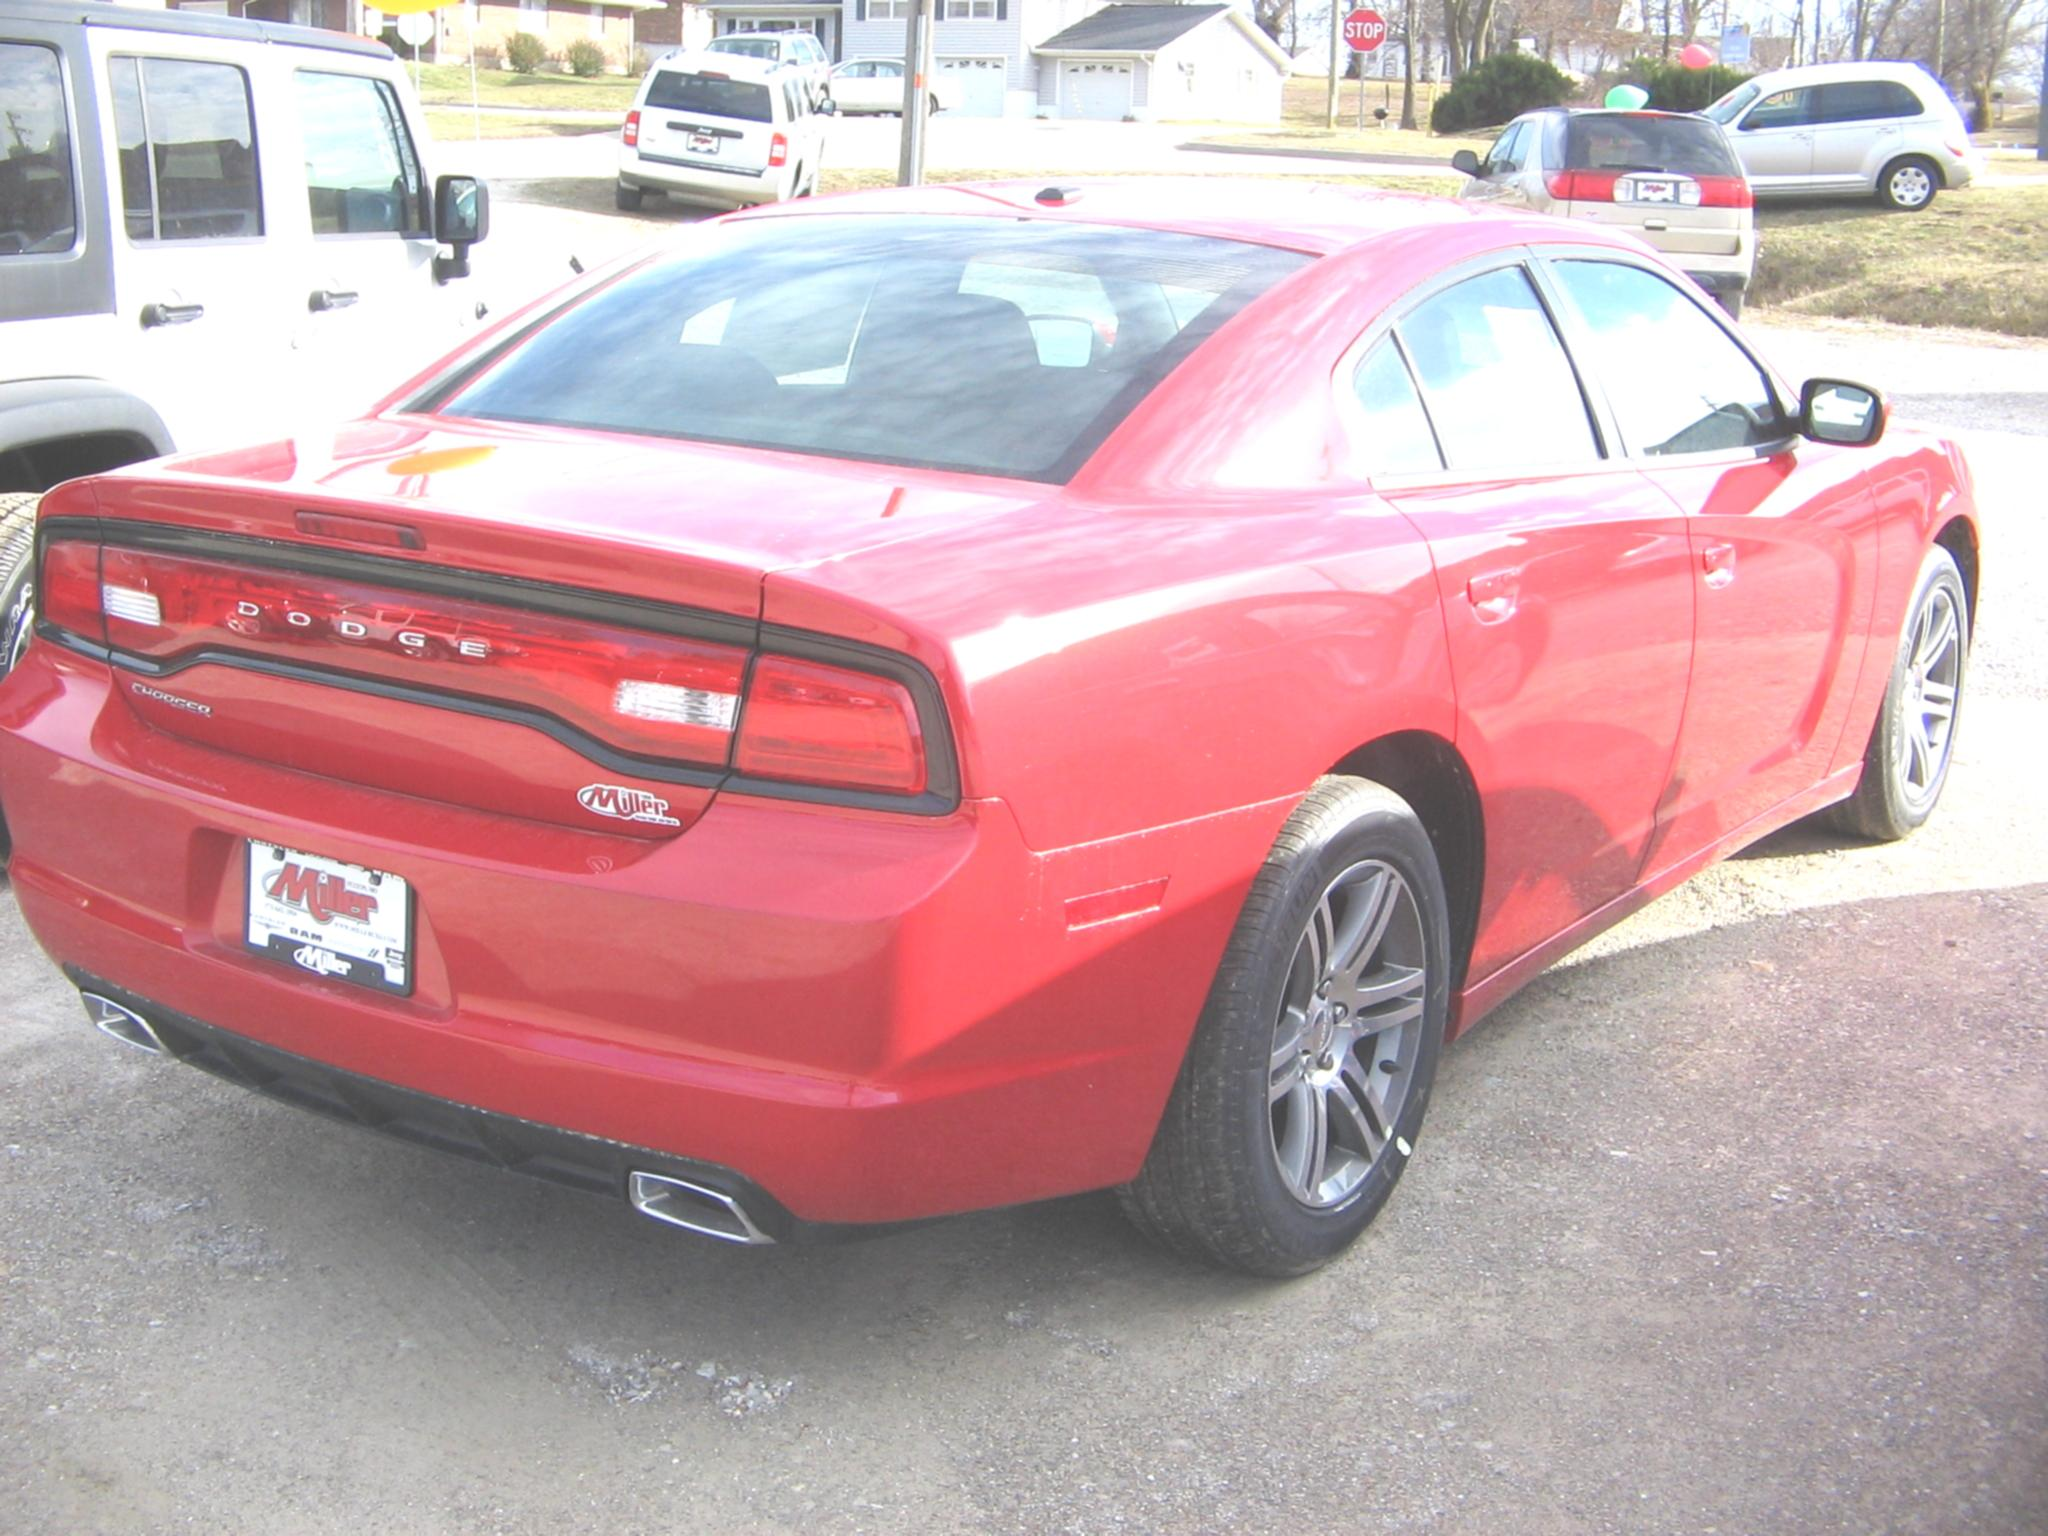dodge: (212, 575, 505, 697)
